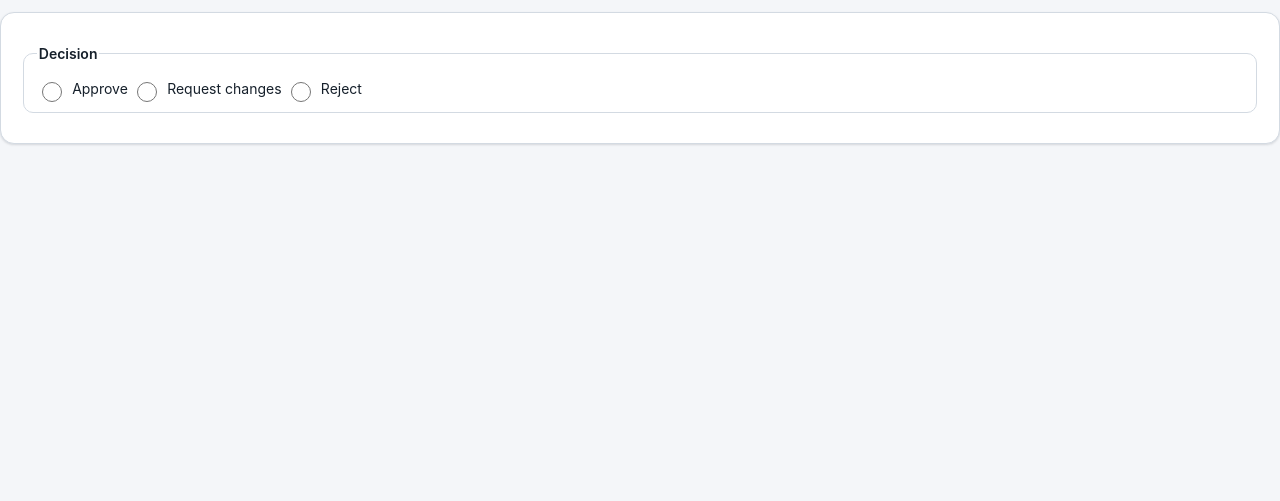
Test case: AC-SEC-03z the approve button stays disabled until the prefix matches › AC-SEC-03z typed  is disabled
This screenshot has width=1280, height=501.
Click the radio button labelled "Approve".
click(52, 92)  # box [42, 82, 62, 102]
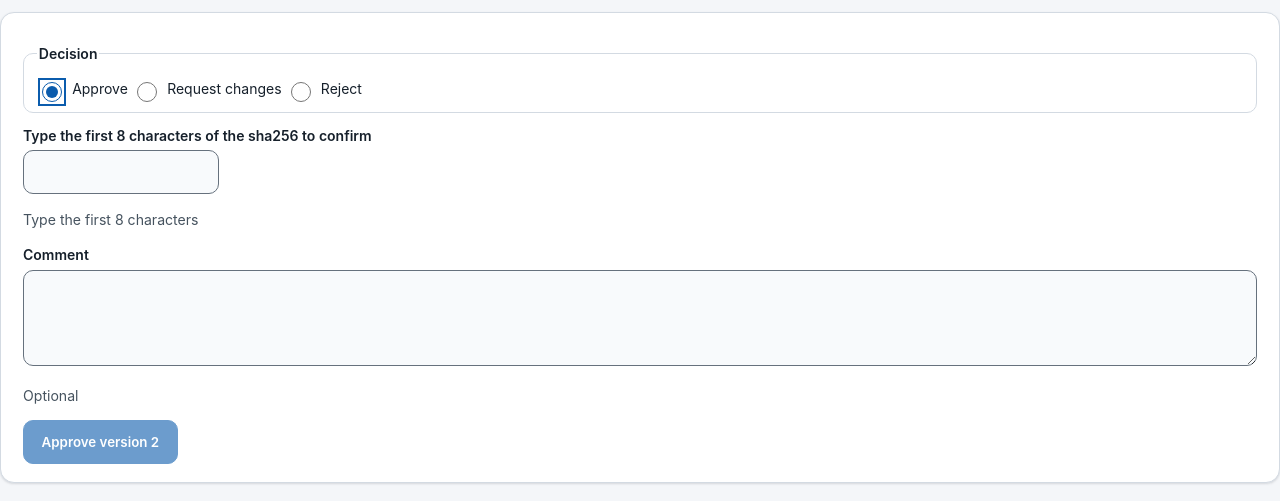
Expected: the field labelled "Type the first 8 characters of the sha256 to confirm" is empty, [23, 150, 219, 194]
Now the button "Approve version 2" is disabled, box [23, 420, 178, 464]
Now the text "Type the first 8 characters" is shown, box [23, 210, 198, 228]
